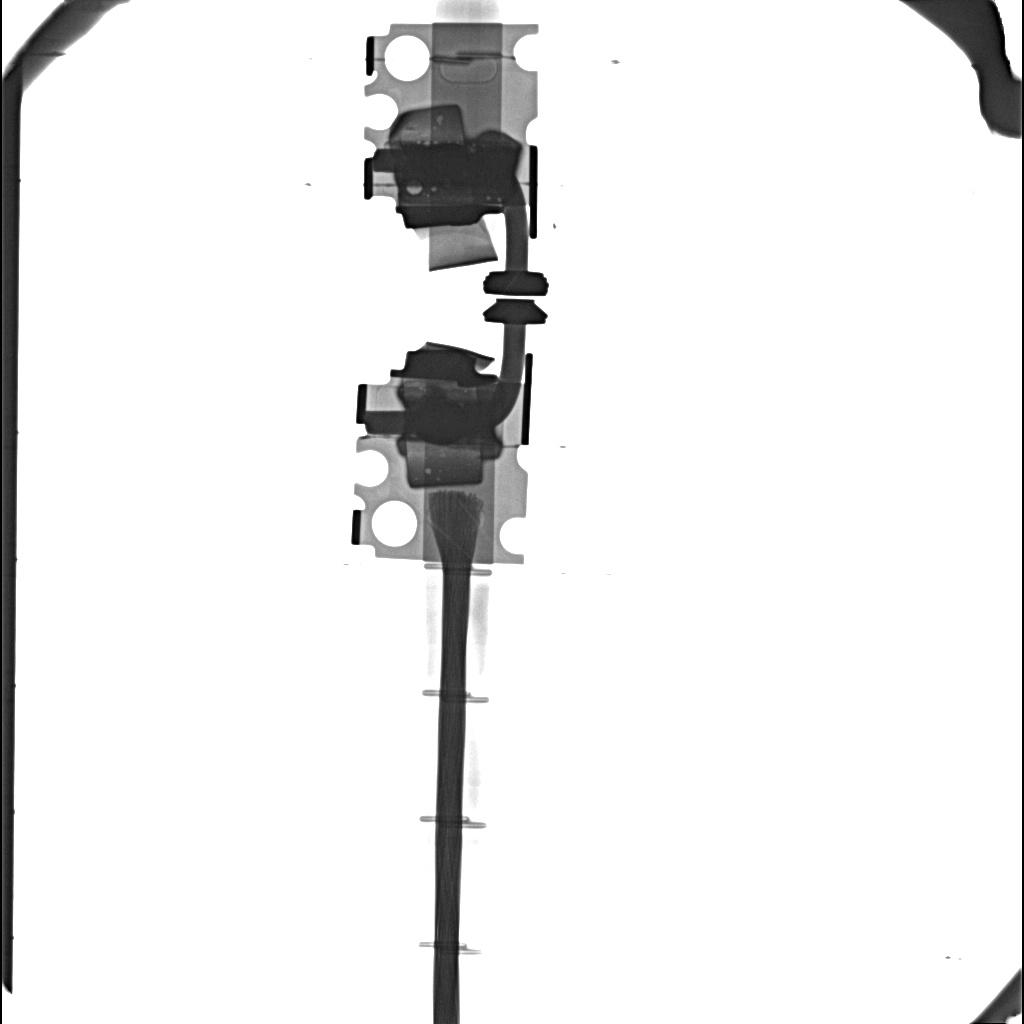PX: (404, 443, 483, 488), (388, 102, 466, 147)
QP: (406, 186, 422, 195)
SX: (395, 143, 517, 186), (405, 397, 495, 443)
